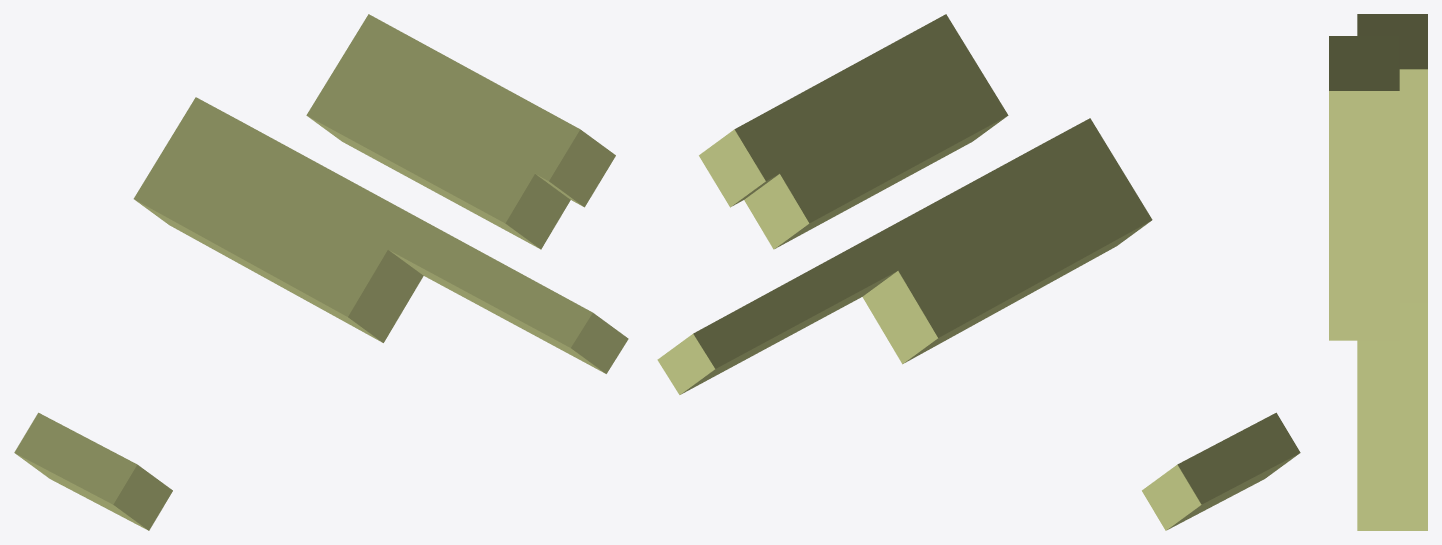
The picture shows the model from 3 angles, left to right: view 1: azimuth 30°, elevation 25°; view 2: azimuth 150°, elevation 25°; view 3: azimuth 270°, elevation 25°; orthographic projection.
Parts seen in each view (by area): view 1: 0_2_3_2_2_3_1_3_0; view 2: 0_2_3_2_2_3_1_3_0; view 3: 0_2_3_2_2_3_1_3_0.
Part boxes in pixels (<box>): 0_2_3_2_2_3_1_3_0: <box>14,14,628,530</box>; 0_2_3_2_2_3_1_3_0: <box>657,14,1300,530</box>; 0_2_3_2_2_3_1_3_0: <box>1329,14,1427,530</box>.
Bounding box in the file's own units: 57.42 × 39.64 × 8.41.
